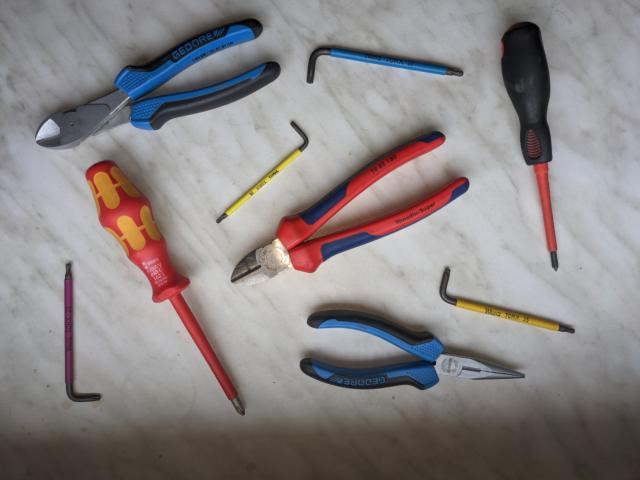Inbusschlüssel: (213, 117, 311, 227), (436, 262, 579, 337), (303, 43, 467, 87), (61, 257, 105, 405)
Schraubendreher: (84, 158, 248, 418), (498, 20, 563, 274)
Seitenschneider: (226, 128, 472, 290), (30, 14, 284, 154)
Zange: (297, 306, 530, 393)
